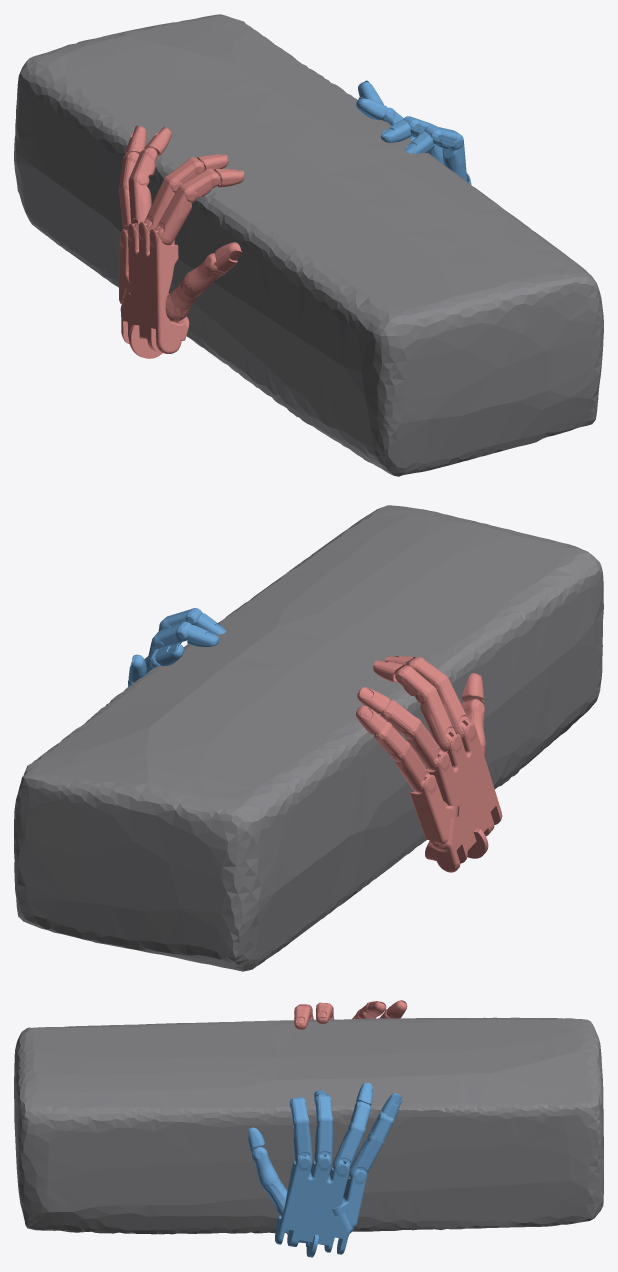
Rendered from curl_cream.glb.
3 views of the same model, one above another, from view 1: azimuth 30°, elevation 25°; view 2: azimuth 150°, elevation 25°; view 3: azimuth 270°, elevation 25° (orthographic). The views are drawn at different scales.
Visible parts, largest first — view 1: object_mesh, left_shadow_hand, right_shadow_hand; view 2: object_mesh, left_shadow_hand, right_shadow_hand; view 3: object_mesh, right_shadow_hand, left_shadow_hand.
Boxes of the visible parts, bbox=[...] form: object_mesh: bbox=[14, 14, 603, 476]; left_shadow_hand: bbox=[119, 125, 244, 358]; right_shadow_hand: bbox=[356, 80, 471, 184]; object_mesh: bbox=[14, 505, 603, 971]; left_shadow_hand: bbox=[356, 656, 502, 872]; right_shadow_hand: bbox=[128, 608, 225, 686]; object_mesh: bbox=[14, 1017, 603, 1234]; right_shadow_hand: bbox=[248, 1082, 401, 1257]; left_shadow_hand: bbox=[294, 1000, 407, 1029].
Bounding box in the file's own units: 0.3522 × 0.1983 × 0.6641.
